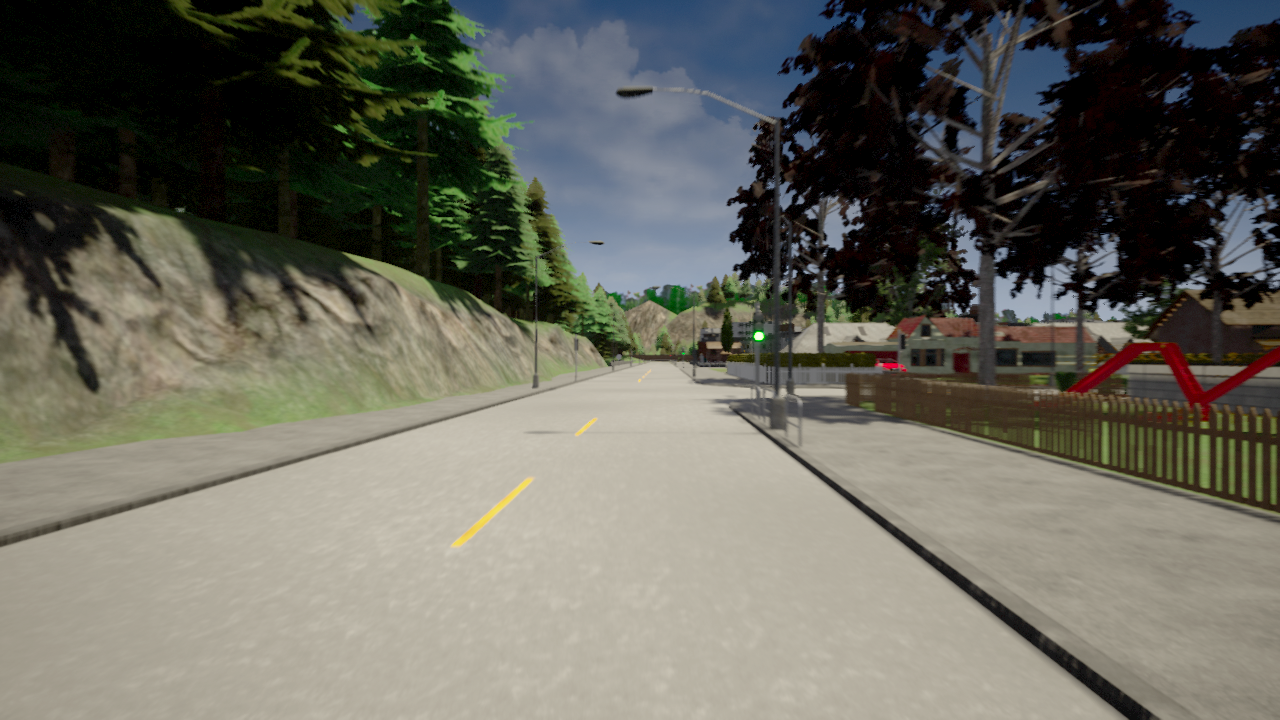green: (752, 310, 765, 342)
